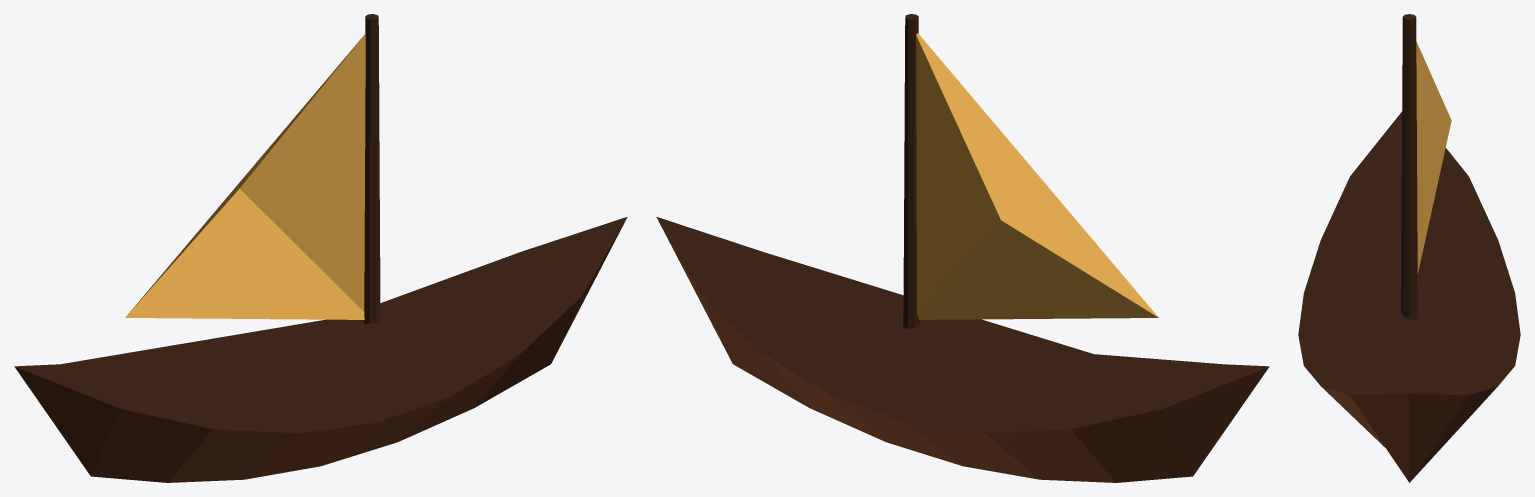
The model's file is boat.glb.
3 renders of one model, left to right at view 1: azimuth 30°, elevation 25°; view 2: azimuth 150°, elevation 25°; view 3: azimuth 270°, elevation 25°, orthographic. The views are drawn at different scales.
Parts seen in each view (by area): view 1: Boat_Catamaran; view 2: Boat_Catamaran; view 3: Boat_Catamaran.
Part boxes in pixels (x1,y1,x2,y2): Boat_Catamaran: (14, 14, 627, 482); Boat_Catamaran: (656, 14, 1269, 482); Boat_Catamaran: (1298, 14, 1520, 482).
Size of the model in its own units: 3.6 by 2.45 by 1.16.
Materials: 1 (1 with a texture image).
